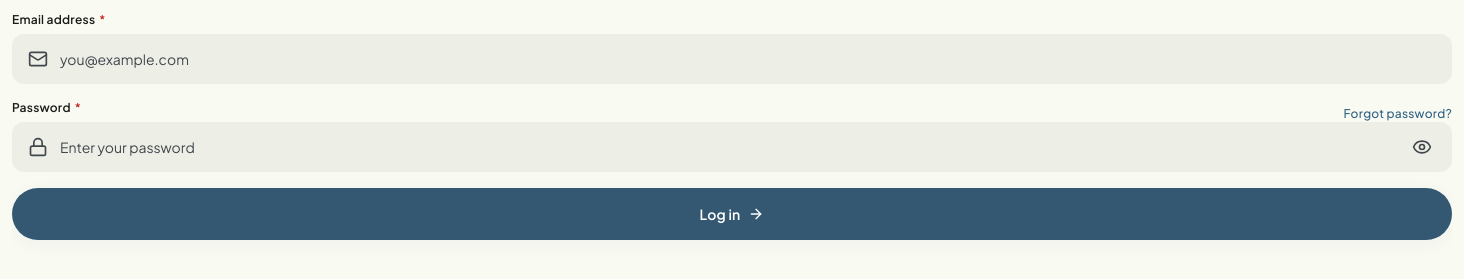
it: LoginForm validation › clears the error as the address is corrected
Type "nope" into the field labelled "Email address" at (732, 59), box top-left (12, 34), bottom-right (1452, 84)
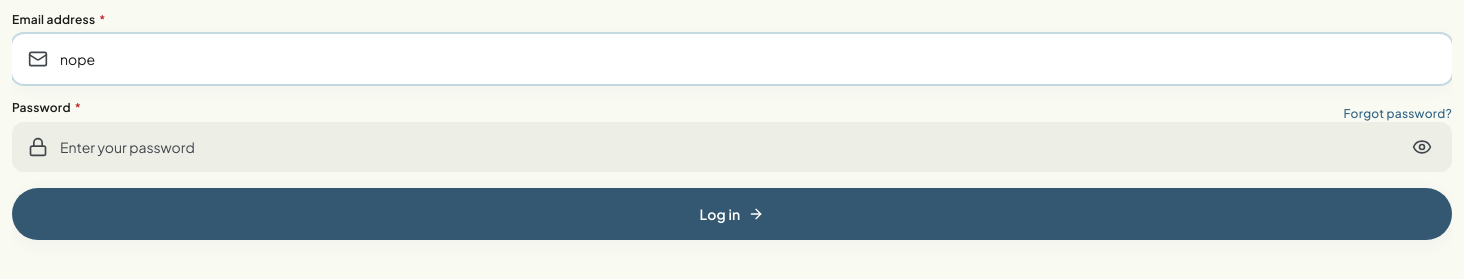
Press Tab
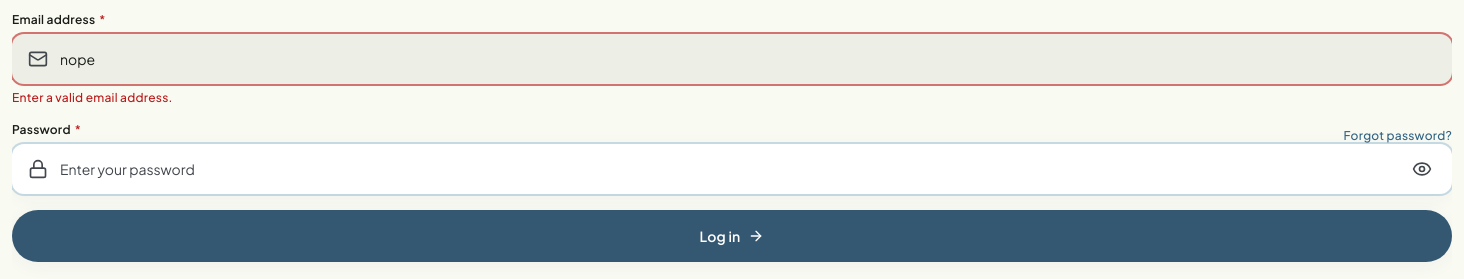
Expected: the text "Enter a valid email address." is shown, top-left (12, 90), bottom-right (173, 105)
Type "@example.com" into the field labelled "Email address" at (732, 59), box top-left (12, 34), bottom-right (1452, 84)
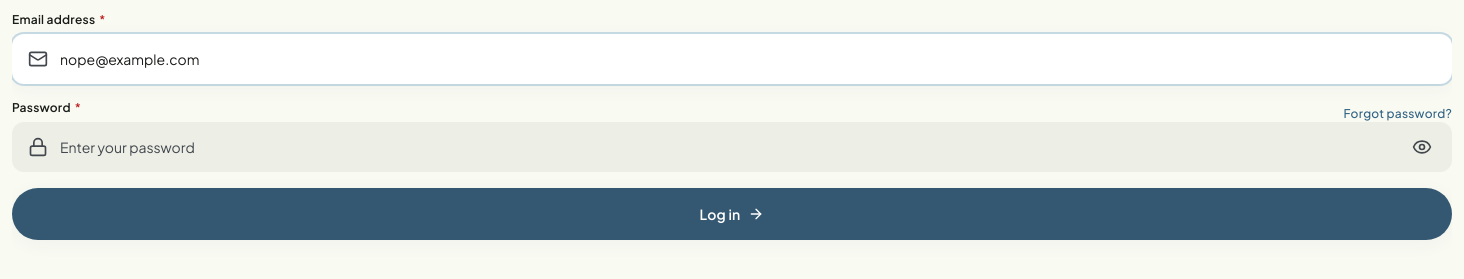
Expected: the text "Enter a valid email address." is gone
